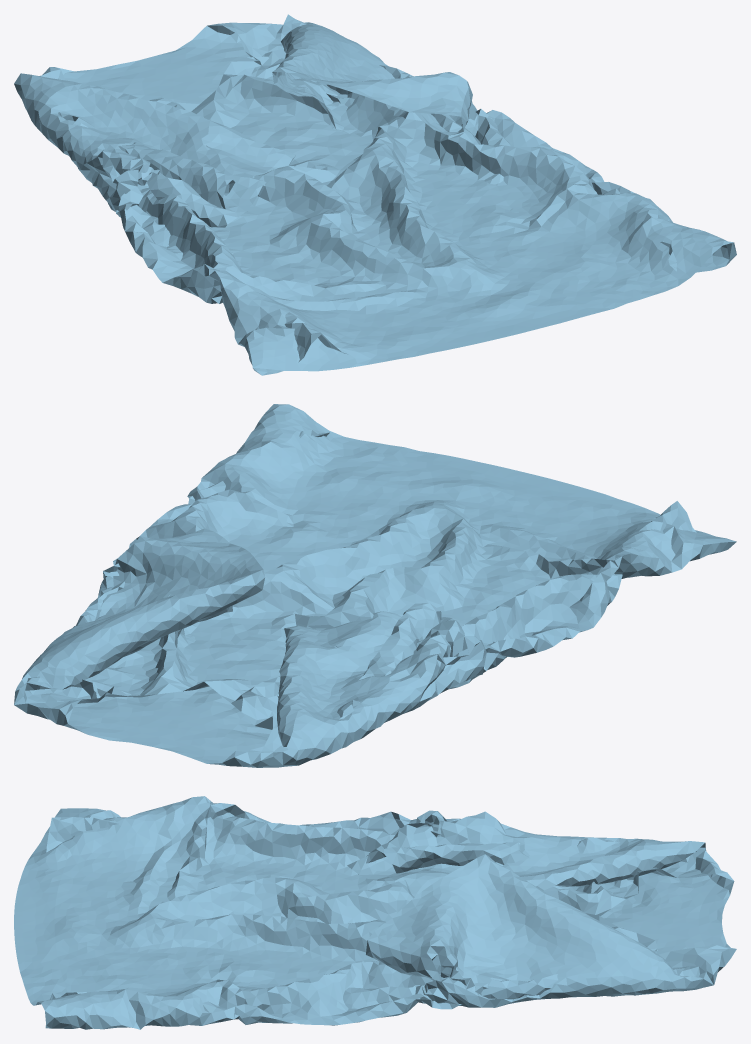
The model's file is frame_18.glb.
The picture shows the model from 3 angles, top to bottom: view 1: azimuth 30°, elevation 25°; view 2: azimuth 150°, elevation 25°; view 3: azimuth 270°, elevation 25°; orthographic projection. The views are drawn at different scales.
Parts seen in each view (by area): view 1: frame_18.obj; view 2: frame_18.obj; view 3: frame_18.obj.
Part boxes in pixels (<box>): frame_18.obj: <box>14,14,736,375</box>; frame_18.obj: <box>14,404,736,767</box>; frame_18.obj: <box>14,796,736,1029</box>.
Bounding box in the file's own units: 1.22 × 0.2172 × 1.69.
